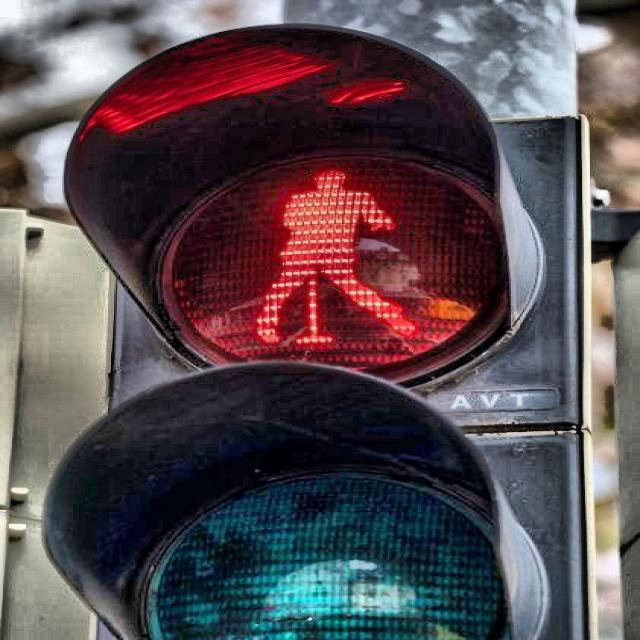red_light: (249, 164, 423, 348)
